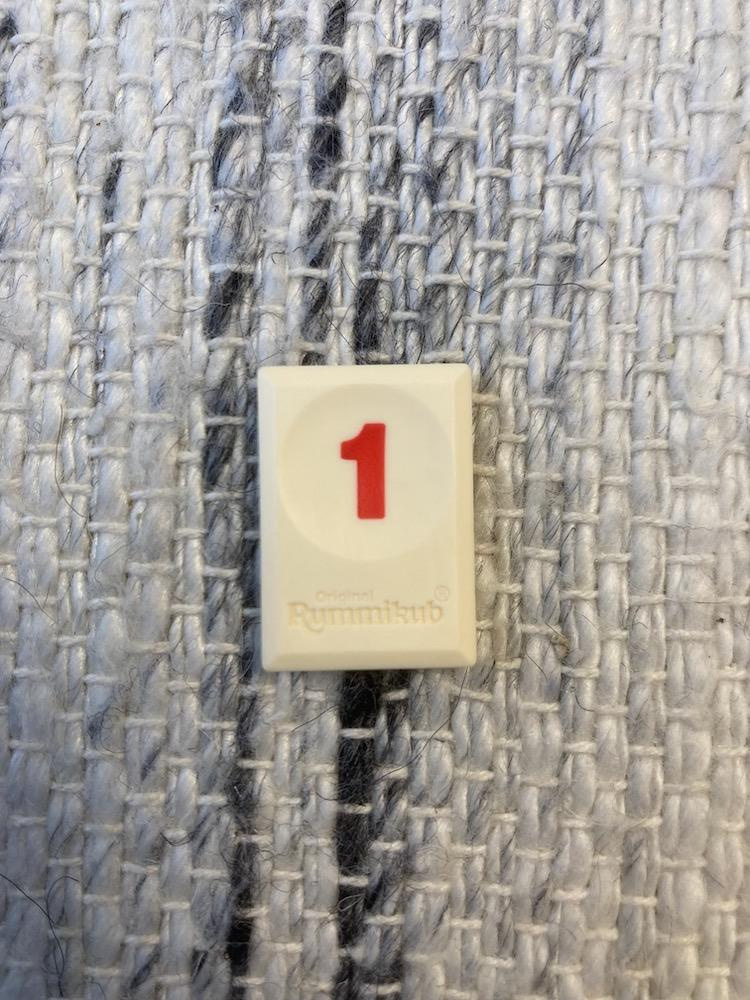red_1: (258, 363, 477, 670)
